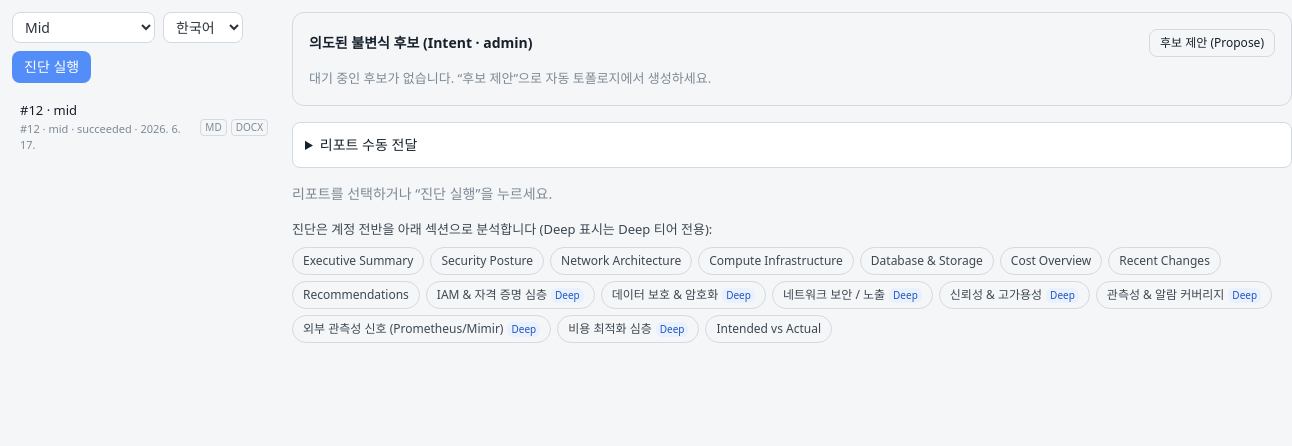
Test case: DiagnosisView — export menu + generation date › renders MD/DOCX/PDF download links + the generation date for an opened report
Click the button "#12 · mid #12 · mid · succeeded · 2026. 6. 17." at (104, 127), box [12, 95, 196, 160]
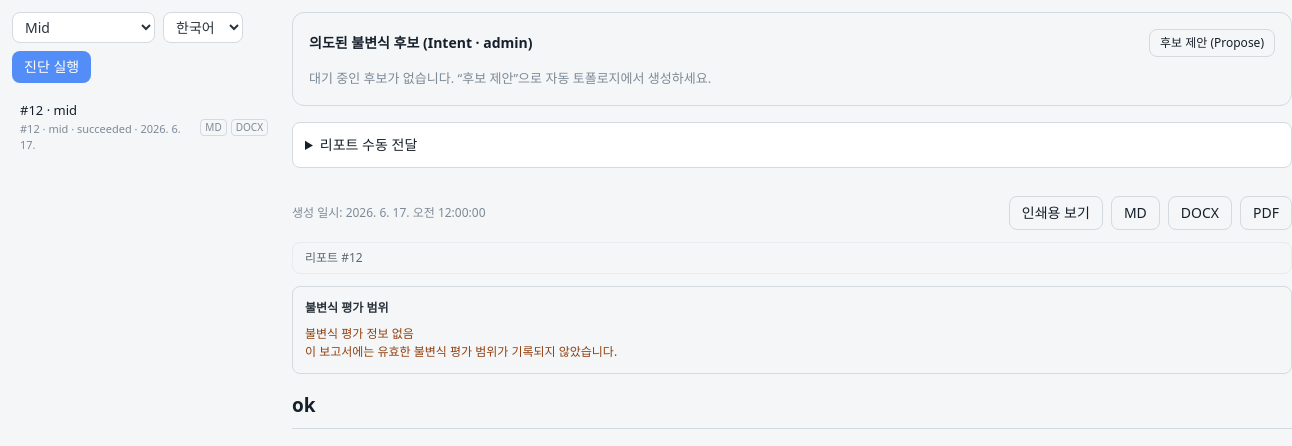
Check: the text "생성 일시" is shown, box [292, 204, 342, 220]
